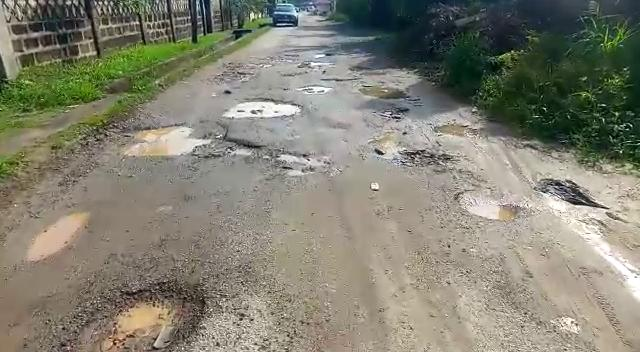pothole: (93, 282, 212, 350), (117, 120, 231, 159), (29, 211, 90, 260), (454, 187, 526, 224), (534, 177, 605, 210), (221, 97, 306, 121), (272, 152, 337, 177), (397, 148, 457, 169), (433, 119, 480, 139), (359, 83, 410, 100), (297, 83, 334, 92)
